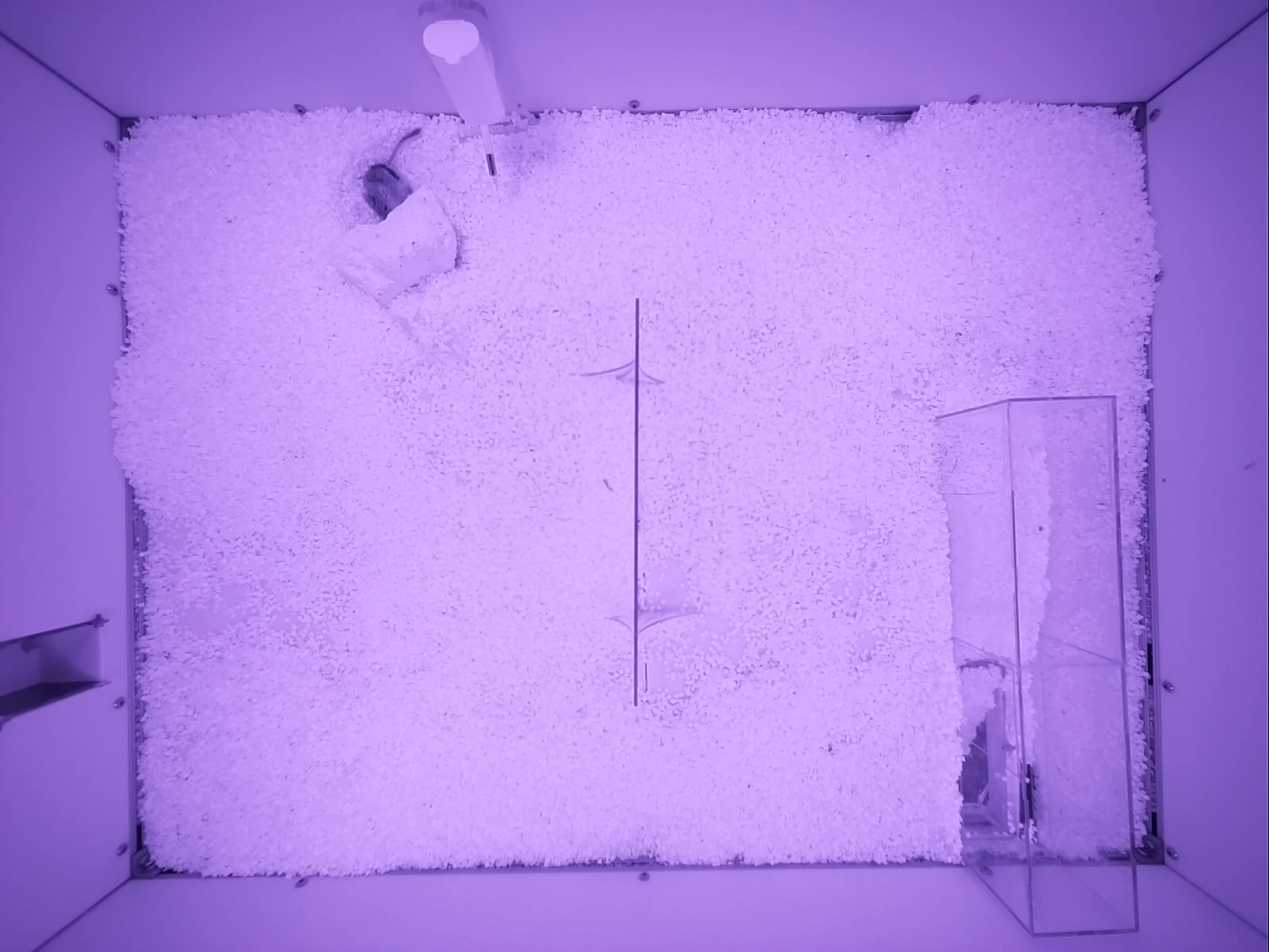adult_back: (362, 128, 420, 220)
